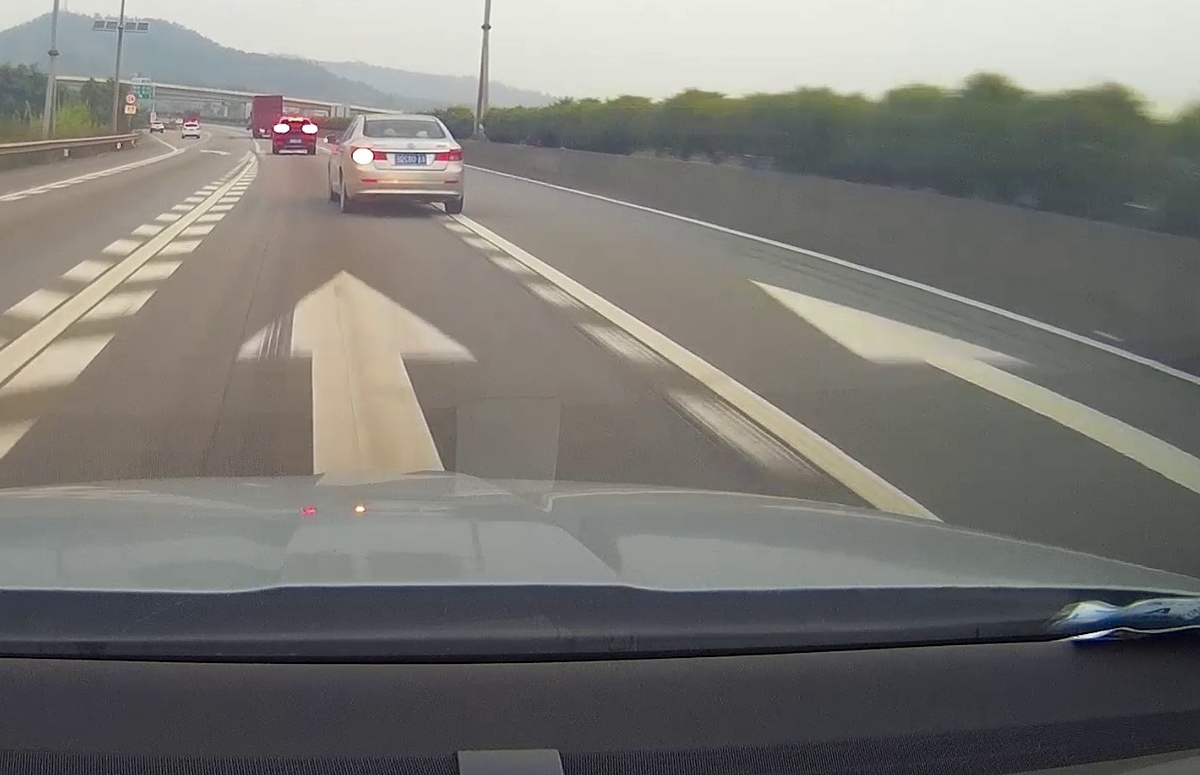L_light: (350, 145, 387, 161), (276, 126, 285, 131)
R_light: (434, 147, 464, 161), (305, 126, 315, 130)
T_light: (395, 120, 410, 124), (291, 119, 302, 121)
day-brake: (274, 118, 316, 155)
day-left: (348, 114, 464, 214)
